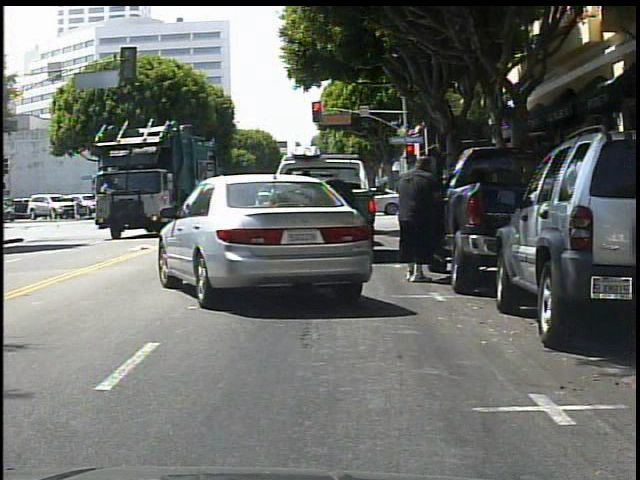person: (396, 152, 442, 291)
